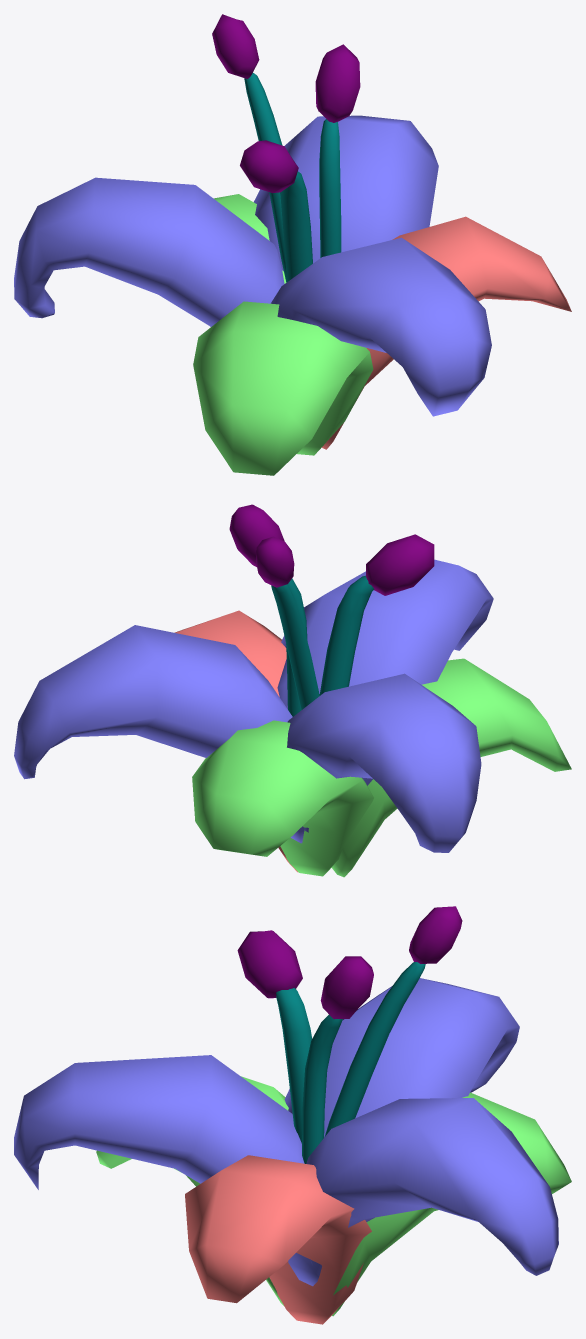
The model's file is Grass03.1.fbx.
The picture shows the model from 3 angles, top to bottom: view 1: azimuth 30°, elevation 25°; view 2: azimuth 150°, elevation 25°; view 3: azimuth 270°, elevation 25°; orthographic projection. The views are drawn at different scales.
Parts seen in each view (by area): view 1: Low_Grass031; view 2: Low_Grass031; view 3: Low_Grass031.
Boxes of the visible parts, x1,y1,x2,y2 form: Low_Grass031: (14, 14, 571, 475); Low_Grass031: (14, 504, 571, 877); Low_Grass031: (14, 906, 571, 1324).
Size of the model in its own units: 820 by 689 by 869.
